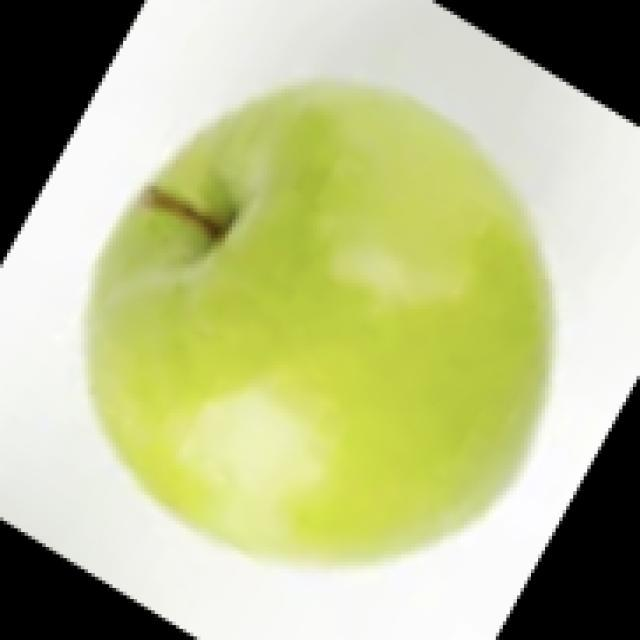Apple: (84, 78, 554, 567)
